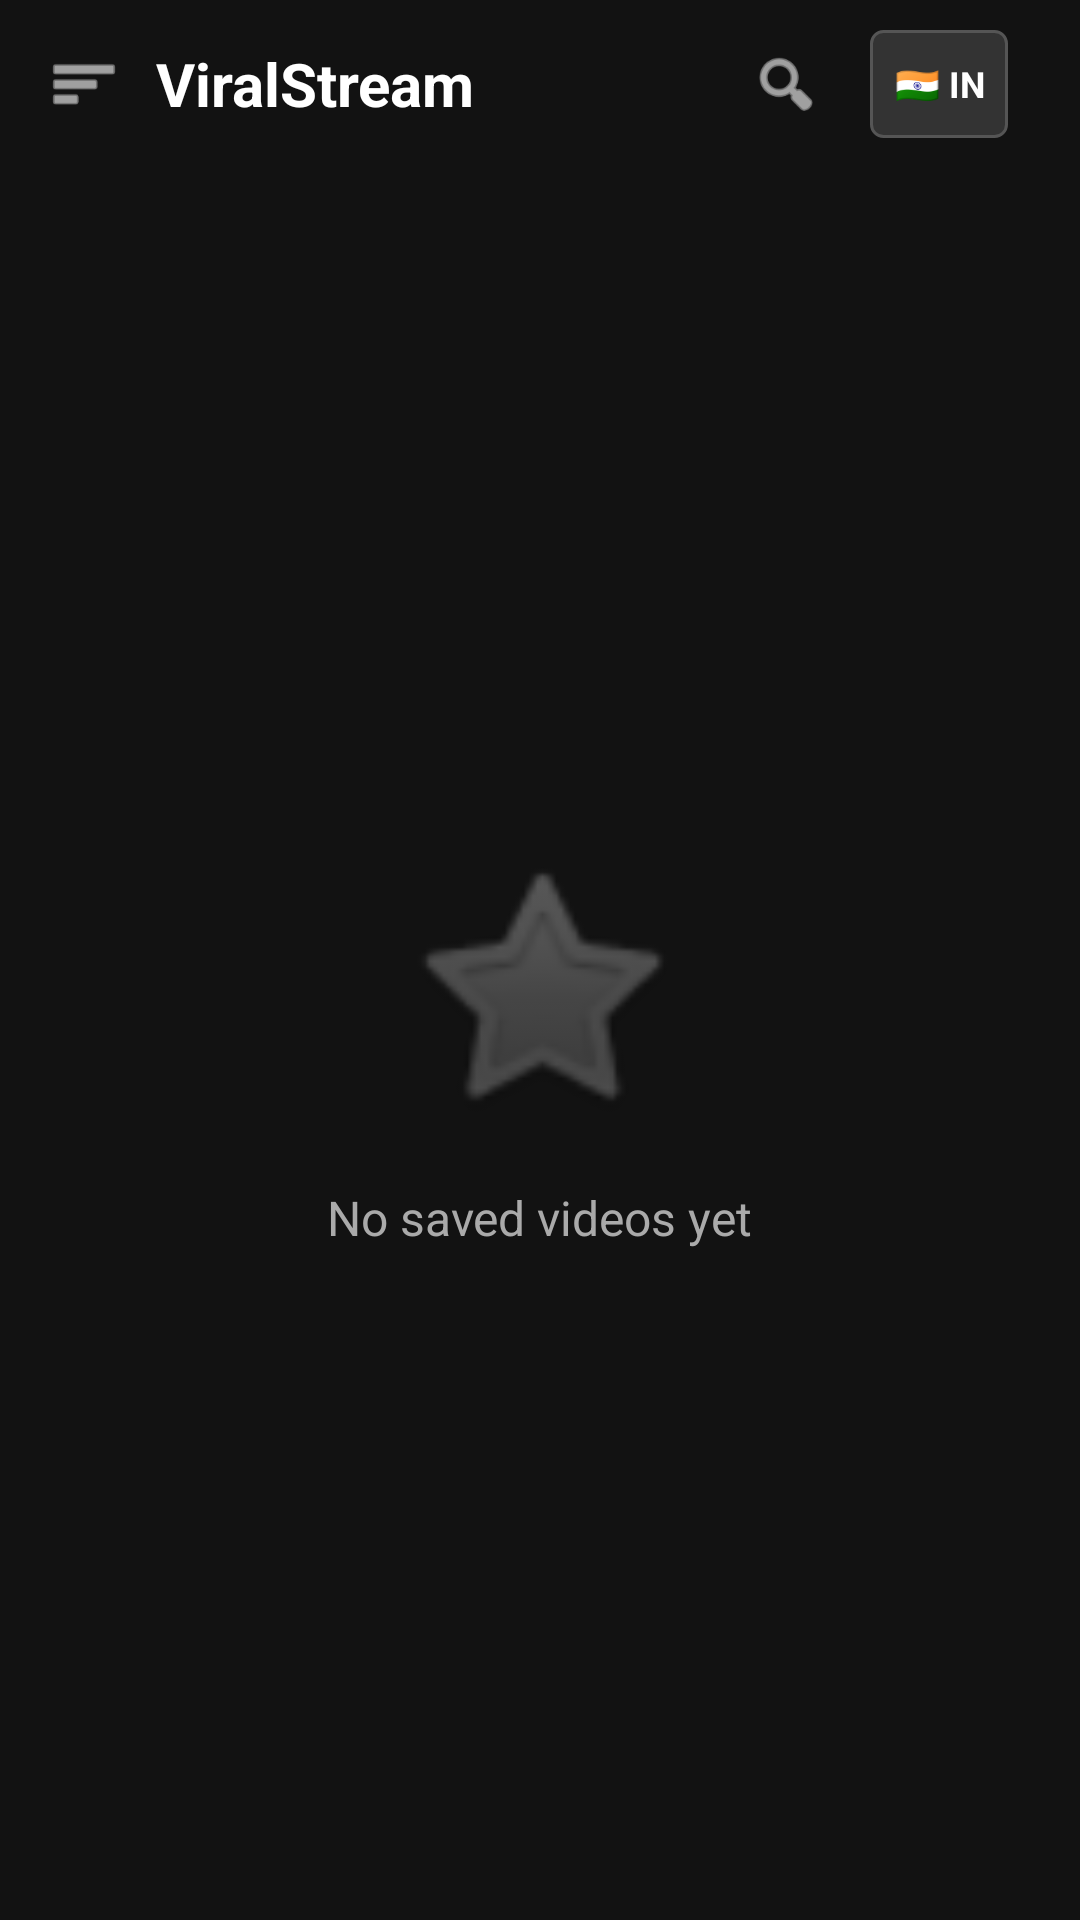

Point at icon controls on the screen. Image size 1080px x 1920px, points as point (x, y).
search: point (786, 84)
sort by size: point (84, 84)
star off: point (543, 986)
